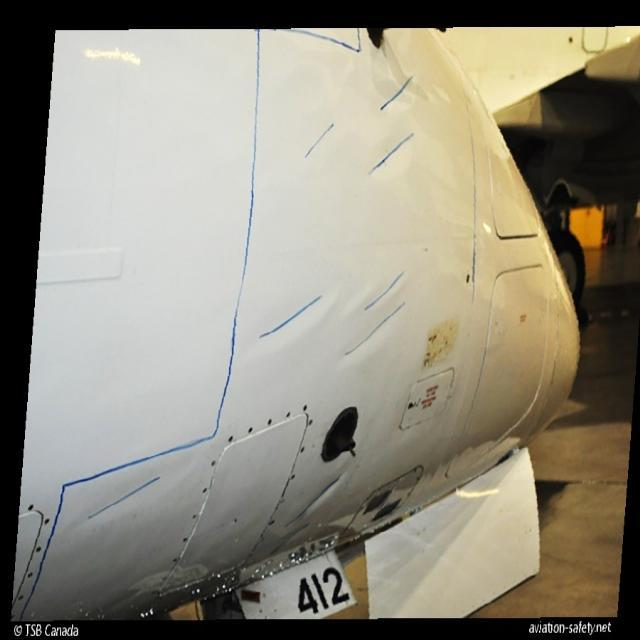dent: (357, 131, 442, 200)
